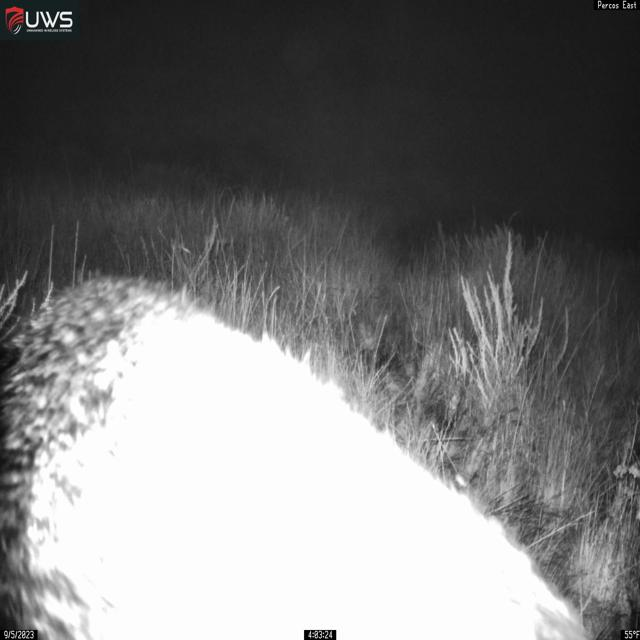pig: (0, 267, 604, 640)
